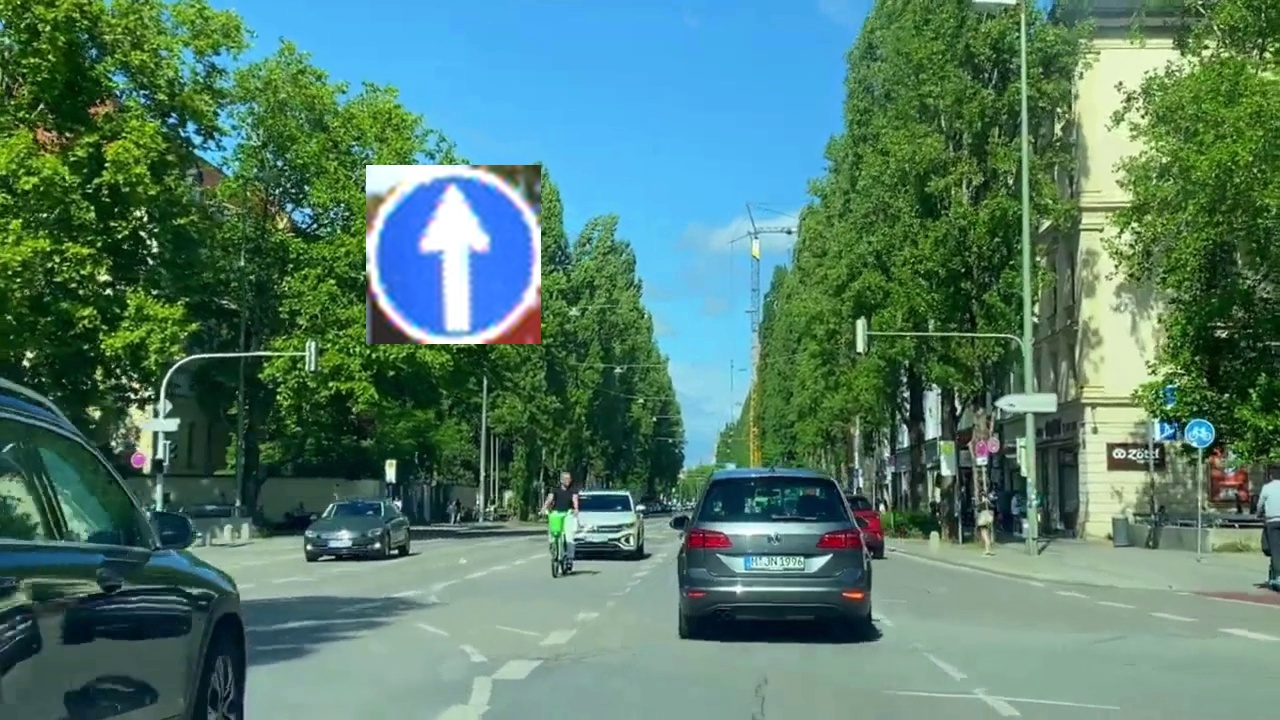Ahead only: (366, 165, 541, 344)
